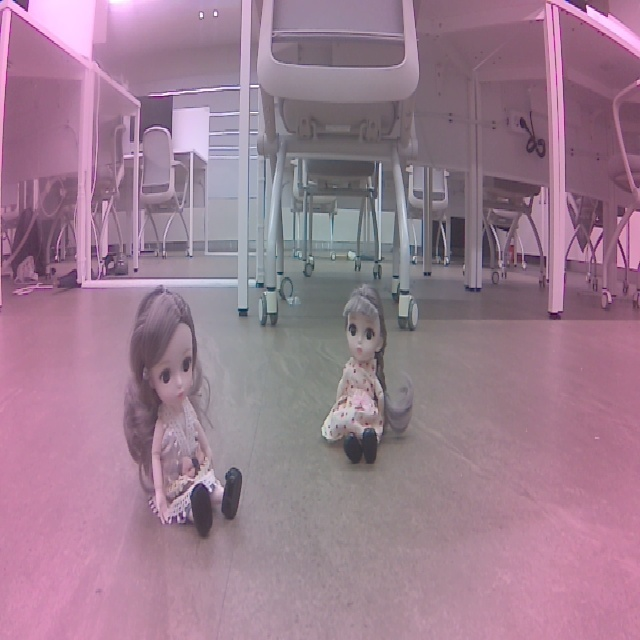장애물: (106, 287, 260, 548)
